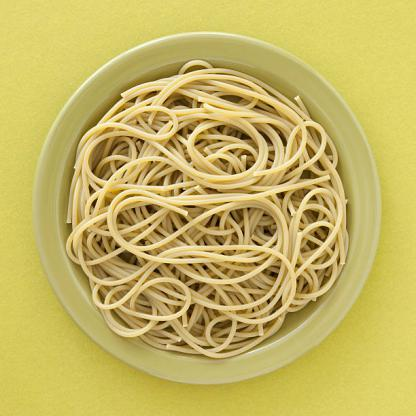Noodles: (66, 59, 350, 359)
